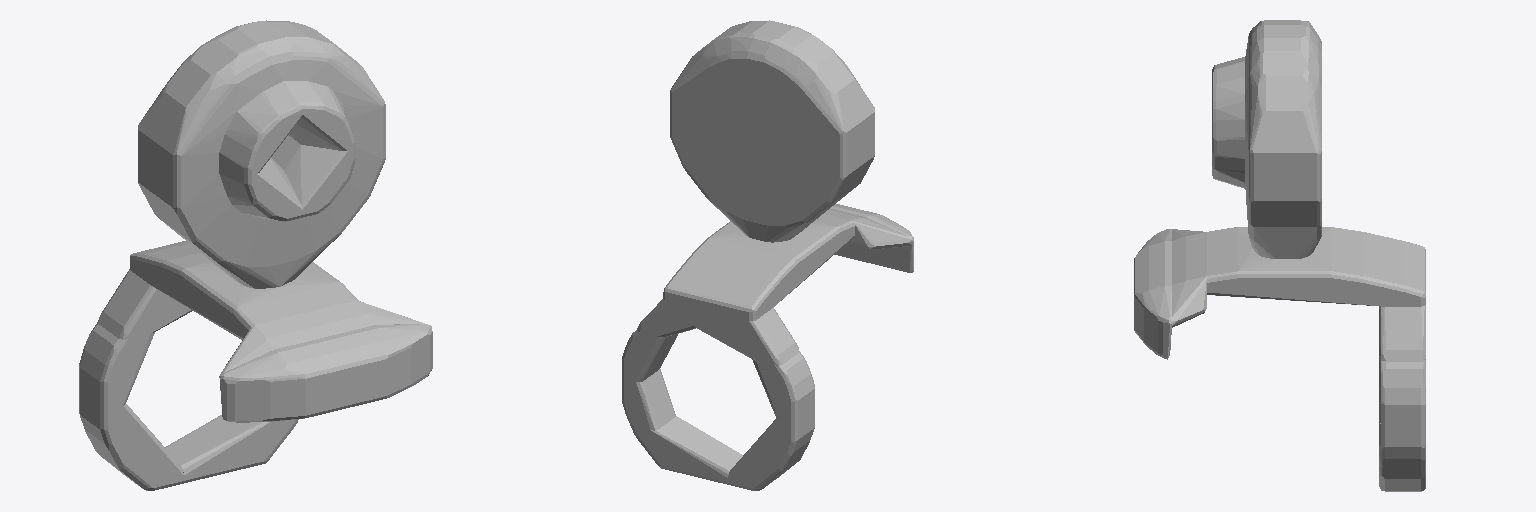
URDF robot description (root):
<robot name="root">
  <link name="link_coacd_convex_piece_0">
    <inertial>
      <origin xyz="0 0 0" rpy="0 0 0"/>
      <inertia ixx="2.40E-04" ixy="2.89E-07" ixz="6.59E-08" iyy="-5.00E-04" iyz="3.68E-04" izz="1.24E-03"/>
    </inertial>
    <visual>
      <origin xyz="0 0 0" rpy="0 0 0"/>
      <geometry>
        <mesh filename="coacd_convex_piece_0.obj" scale="1.0000E+00 1.0000E+00 1.0000E+00"/>
      </geometry>
      <material name="">
        <color rgba="7.50E-01 7.50E-01 7.50E-01 1"/>
      </material>
    </visual>
    <collision>
      <origin xyz="0 0 0" rpy="0 0 0"/>
      <geometry>
        <mesh filename="coacd_convex_piece_0.obj" scale="1.0000E+00 1.0000E+00 1.0000E+00"/>
      </geometry>
    </collision>
  </link>
  <link name="link_coacd_convex_piece_1">
    <inertial>
      <origin xyz="0 0 0" rpy="0 0 0"/>
      <inertia ixx="7.27E-04" ixy="-3.79E-05" ixz="1.27E-04" iyy="6.96E-04" iyz="2.40E-04" izz="9.04E-05"/>
    </inertial>
    <visual>
      <origin xyz="0 0 0" rpy="0 0 0"/>
      <geometry>
        <mesh filename="coacd_convex_piece_1.obj" scale="1.0000E+00 1.0000E+00 1.0000E+00"/>
      </geometry>
      <material name="">
        <color rgba="7.50E-01 7.50E-01 7.50E-01 1"/>
      </material>
    </visual>
    <collision>
      <origin xyz="0 0 0" rpy="0 0 0"/>
      <geometry>
        <mesh filename="coacd_convex_piece_1.obj" scale="1.0000E+00 1.0000E+00 1.0000E+00"/>
      </geometry>
    </collision>
  </link>
  <joint name="link_coacd_convex_piece_1_joint" type="fixed">
    <origin xyz="0 0 0" rpy="0 0 0"/>
    <parent link="link_coacd_convex_piece_0"/>
    <child link="link_coacd_convex_piece_1"/>
  </joint>
  <link name="link_coacd_convex_piece_2">
    <inertial>
      <origin xyz="0 0 0" rpy="0 0 0"/>
      <inertia ixx="5.28E-04" ixy="-2.10E-04" ixz="1.05E-04" iyy="9.46E-05" iyz="2.82E-04" izz="6.24E-04"/>
    </inertial>
    <visual>
      <origin xyz="0 0 0" rpy="0 0 0"/>
      <geometry>
        <mesh filename="coacd_convex_piece_2.obj" scale="1.0000E+00 1.0000E+00 1.0000E+00"/>
      </geometry>
      <material name="">
        <color rgba="7.50E-01 7.50E-01 7.50E-01 1"/>
      </material>
    </visual>
    <collision>
      <origin xyz="0 0 0" rpy="0 0 0"/>
      <geometry>
        <mesh filename="coacd_convex_piece_2.obj" scale="1.0000E+00 1.0000E+00 1.0000E+00"/>
      </geometry>
    </collision>
  </link>
  <joint name="link_coacd_convex_piece_2_joint" type="fixed">
    <origin xyz="0 0 0" rpy="0 0 0"/>
    <parent link="link_coacd_convex_piece_1"/>
    <child link="link_coacd_convex_piece_2"/>
  </joint>
  <link name="link_coacd_convex_piece_3">
    <inertial>
      <origin xyz="0 0 0" rpy="0 0 0"/>
      <inertia ixx="7.75E-04" ixy="2.21E-04" ixz="-1.11E-04" iyy="8.91E-05" iyz="4.10E-04" izz="8.83E-04"/>
    </inertial>
    <visual>
      <origin xyz="0 0 0" rpy="0 0 0"/>
      <geometry>
        <mesh filename="coacd_convex_piece_3.obj" scale="1.0000E+00 1.0000E+00 1.0000E+00"/>
      </geometry>
      <material name="">
        <color rgba="7.50E-01 7.50E-01 7.50E-01 1"/>
      </material>
    </visual>
    <collision>
      <origin xyz="0 0 0" rpy="0 0 0"/>
      <geometry>
        <mesh filename="coacd_convex_piece_3.obj" scale="1.0000E+00 1.0000E+00 1.0000E+00"/>
      </geometry>
    </collision>
  </link>
  <joint name="link_coacd_convex_piece_3_joint" type="fixed">
    <origin xyz="0 0 0" rpy="0 0 0"/>
    <parent link="link_coacd_convex_piece_2"/>
    <child link="link_coacd_convex_piece_3"/>
  </joint>
  <link name="link_coacd_convex_piece_4">
    <inertial>
      <origin xyz="0 0 0" rpy="0 0 0"/>
      <inertia ixx="3.29E-03" ixy="-2.49E-04" ixz="4.36E-04" iyy="2.59E-03" iyz="1.53E-03" izz="9.54E-04"/>
    </inertial>
    <visual>
      <origin xyz="0 0 0" rpy="0 0 0"/>
      <geometry>
        <mesh filename="coacd_convex_piece_4.obj" scale="1.0000E+00 1.0000E+00 1.0000E+00"/>
      </geometry>
      <material name="">
        <color rgba="7.50E-01 7.50E-01 7.50E-01 1"/>
      </material>
    </visual>
    <collision>
      <origin xyz="0 0 0" rpy="0 0 0"/>
      <geometry>
        <mesh filename="coacd_convex_piece_4.obj" scale="1.0000E+00 1.0000E+00 1.0000E+00"/>
      </geometry>
    </collision>
  </link>
  <joint name="link_coacd_convex_piece_4_joint" type="fixed">
    <origin xyz="0 0 0" rpy="0 0 0"/>
    <parent link="link_coacd_convex_piece_3"/>
    <child link="link_coacd_convex_piece_4"/>
  </joint>
  <link name="link_coacd_convex_piece_5">
    <inertial>
      <origin xyz="0 0 0" rpy="0 0 0"/>
      <inertia ixx="8.56E-04" ixy="3.73E-04" ixz="-3.45E-04" iyy="5.93E-04" iyz="5.13E-04" izz="7.99E-04"/>
    </inertial>
    <visual>
      <origin xyz="0 0 0" rpy="0 0 0"/>
      <geometry>
        <mesh filename="coacd_convex_piece_5.obj" scale="1.0000E+00 1.0000E+00 1.0000E+00"/>
      </geometry>
      <material name="">
        <color rgba="7.50E-01 7.50E-01 7.50E-01 1"/>
      </material>
    </visual>
    <collision>
      <origin xyz="0 0 0" rpy="0 0 0"/>
      <geometry>
        <mesh filename="coacd_convex_piece_5.obj" scale="1.0000E+00 1.0000E+00 1.0000E+00"/>
      </geometry>
    </collision>
  </link>
  <joint name="link_coacd_convex_piece_5_joint" type="fixed">
    <origin xyz="0 0 0" rpy="0 0 0"/>
    <parent link="link_coacd_convex_piece_4"/>
    <child link="link_coacd_convex_piece_5"/>
  </joint>
  <link name="link_coacd_convex_piece_6">
    <inertial>
      <origin xyz="0 0 0" rpy="0 0 0"/>
      <inertia ixx="3.25E-03" ixy="5.59E-04" ixz="-8.66E-04" iyy="2.62E-03" iyz="1.60E-03" izz="1.32E-03"/>
    </inertial>
    <visual>
      <origin xyz="0 0 0" rpy="0 0 0"/>
      <geometry>
        <mesh filename="coacd_convex_piece_6.obj" scale="1.0000E+00 1.0000E+00 1.0000E+00"/>
      </geometry>
      <material name="">
        <color rgba="7.50E-01 7.50E-01 7.50E-01 1"/>
      </material>
    </visual>
    <collision>
      <origin xyz="0 0 0" rpy="0 0 0"/>
      <geometry>
        <mesh filename="coacd_convex_piece_6.obj" scale="1.0000E+00 1.0000E+00 1.0000E+00"/>
      </geometry>
    </collision>
  </link>
  <joint name="link_coacd_convex_piece_6_joint" type="fixed">
    <origin xyz="0 0 0" rpy="0 0 0"/>
    <parent link="link_coacd_convex_piece_5"/>
    <child link="link_coacd_convex_piece_6"/>
  </joint>
  <link name="link_coacd_convex_piece_7">
    <inertial>
      <origin xyz="0 0 0" rpy="0 0 0"/>
      <inertia ixx="1.47E-02" ixy="-4.88E-08" ixz="1.15E-06" iyy="1.72E-02" iyz="2.77E-04" izz="3.07E-03"/>
    </inertial>
    <visual>
      <origin xyz="0 0 0" rpy="0 0 0"/>
      <geometry>
        <mesh filename="coacd_convex_piece_7.obj" scale="1.0000E+00 1.0000E+00 1.0000E+00"/>
      </geometry>
      <material name="">
        <color rgba="7.50E-01 7.50E-01 7.50E-01 1"/>
      </material>
    </visual>
    <collision>
      <origin xyz="0 0 0" rpy="0 0 0"/>
      <geometry>
        <mesh filename="coacd_convex_piece_7.obj" scale="1.0000E+00 1.0000E+00 1.0000E+00"/>
      </geometry>
    </collision>
  </link>
  <joint name="link_coacd_convex_piece_7_joint" type="fixed">
    <origin xyz="0 0 0" rpy="0 0 0"/>
    <parent link="link_coacd_convex_piece_6"/>
    <child link="link_coacd_convex_piece_7"/>
  </joint>
  <link name="link_coacd_convex_piece_8">
    <inertial>
      <origin xyz="0 0 0" rpy="0 0 0"/>
      <inertia ixx="2.60E-04" ixy="3.45E-09" ixz="3.99E-08" iyy="-2.83E-05" iyz="-7.26E-05" izz="5.33E-04"/>
    </inertial>
    <visual>
      <origin xyz="0 0 0" rpy="0 0 0"/>
      <geometry>
        <mesh filename="coacd_convex_piece_8.obj" scale="1.0000E+00 1.0000E+00 1.0000E+00"/>
      </geometry>
      <material name="">
        <color rgba="7.50E-01 7.50E-01 7.50E-01 1"/>
      </material>
    </visual>
    <collision>
      <origin xyz="0 0 0" rpy="0 0 0"/>
      <geometry>
        <mesh filename="coacd_convex_piece_8.obj" scale="1.0000E+00 1.0000E+00 1.0000E+00"/>
      </geometry>
    </collision>
  </link>
  <joint name="link_coacd_convex_piece_8_joint" type="fixed">
    <origin xyz="0 0 0" rpy="0 0 0"/>
    <parent link="link_coacd_convex_piece_7"/>
    <child link="link_coacd_convex_piece_8"/>
  </joint>
  <link name="link_coacd_convex_piece_9">
    <inertial>
      <origin xyz="0 0 0" rpy="0 0 0"/>
      <inertia ixx="1.51E-03" ixy="3.29E-07" ixz="3.39E-07" iyy="1.56E-04" iyz="-5.35E-04" izz="1.94E-03"/>
    </inertial>
    <visual>
      <origin xyz="0 0 0" rpy="0 0 0"/>
      <geometry>
        <mesh filename="coacd_convex_piece_9.obj" scale="1.0000E+00 1.0000E+00 1.0000E+00"/>
      </geometry>
      <material name="">
        <color rgba="7.50E-01 7.50E-01 7.50E-01 1"/>
      </material>
    </visual>
    <collision>
      <origin xyz="0 0 0" rpy="0 0 0"/>
      <geometry>
        <mesh filename="coacd_convex_piece_9.obj" scale="1.0000E+00 1.0000E+00 1.0000E+00"/>
      </geometry>
    </collision>
  </link>
  <joint name="link_coacd_convex_piece_9_joint" type="fixed">
    <origin xyz="0 0 0" rpy="0 0 0"/>
    <parent link="link_coacd_convex_piece_8"/>
    <child link="link_coacd_convex_piece_9"/>
  </joint>
  <link name="link_coacd_convex_piece_10">
    <inertial>
      <origin xyz="0 0 0" rpy="0 0 0"/>
      <inertia ixx="7.83E-04" ixy="-3.46E-04" ixz="3.15E-04" iyy="5.37E-04" iyz="4.70E-04" izz="7.42E-04"/>
    </inertial>
    <visual>
      <origin xyz="0 0 0" rpy="0 0 0"/>
      <geometry>
        <mesh filename="coacd_convex_piece_10.obj" scale="1.0000E+00 1.0000E+00 1.0000E+00"/>
      </geometry>
      <material name="">
        <color rgba="7.50E-01 7.50E-01 7.50E-01 1"/>
      </material>
    </visual>
    <collision>
      <origin xyz="0 0 0" rpy="0 0 0"/>
      <geometry>
        <mesh filename="coacd_convex_piece_10.obj" scale="1.0000E+00 1.0000E+00 1.0000E+00"/>
      </geometry>
    </collision>
  </link>
  <joint name="link_coacd_convex_piece_10_joint" type="fixed">
    <origin xyz="0 0 0" rpy="0 0 0"/>
    <parent link="link_coacd_convex_piece_9"/>
    <child link="link_coacd_convex_piece_10"/>
  </joint>
  <link name="link_coacd_convex_piece_11">
    <inertial>
      <origin xyz="0 0 0" rpy="0 0 0"/>
      <inertia ixx="1.06E-03" ixy="-2.88E-04" ixz="3.98E-04" iyy="8.77E-04" iyz="5.64E-04" izz="6.08E-04"/>
    </inertial>
    <visual>
      <origin xyz="0 0 0" rpy="0 0 0"/>
      <geometry>
        <mesh filename="coacd_convex_piece_11.obj" scale="1.0000E+00 1.0000E+00 1.0000E+00"/>
      </geometry>
      <material name="">
        <color rgba="7.50E-01 7.50E-01 7.50E-01 1"/>
      </material>
    </visual>
    <collision>
      <origin xyz="0 0 0" rpy="0 0 0"/>
      <geometry>
        <mesh filename="coacd_convex_piece_11.obj" scale="1.0000E+00 1.0000E+00 1.0000E+00"/>
      </geometry>
    </collision>
  </link>
  <joint name="link_coacd_convex_piece_11_joint" type="fixed">
    <origin xyz="0 0 0" rpy="0 0 0"/>
    <parent link="link_coacd_convex_piece_10"/>
    <child link="link_coacd_convex_piece_11"/>
  </joint>
  <link name="link_coacd_convex_piece_12">
    <inertial>
      <origin xyz="0 0 0" rpy="0 0 0"/>
      <inertia ixx="3.05E-04" ixy="3.92E-05" ixz="-9.26E-05" iyy="2.73E-04" iyz="1.69E-04" izz="9.30E-05"/>
    </inertial>
    <visual>
      <origin xyz="0 0 0" rpy="0 0 0"/>
      <geometry>
        <mesh filename="coacd_convex_piece_12.obj" scale="1.0000E+00 1.0000E+00 1.0000E+00"/>
      </geometry>
      <material name="">
        <color rgba="7.50E-01 7.50E-01 7.50E-01 1"/>
      </material>
    </visual>
    <collision>
      <origin xyz="0 0 0" rpy="0 0 0"/>
      <geometry>
        <mesh filename="coacd_convex_piece_12.obj" scale="1.0000E+00 1.0000E+00 1.0000E+00"/>
      </geometry>
    </collision>
  </link>
  <joint name="link_coacd_convex_piece_12_joint" type="fixed">
    <origin xyz="0 0 0" rpy="0 0 0"/>
    <parent link="link_coacd_convex_piece_11"/>
    <child link="link_coacd_convex_piece_12"/>
  </joint>
  <link name="link_coacd_convex_piece_13">
    <inertial>
      <origin xyz="0 0 0" rpy="0 0 0"/>
      <inertia ixx="2.99E-04" ixy="-3.84E-05" ixz="9.06E-05" iyy="2.67E-04" iyz="1.66E-04" izz="9.16E-05"/>
    </inertial>
    <visual>
      <origin xyz="0 0 0" rpy="0 0 0"/>
      <geometry>
        <mesh filename="coacd_convex_piece_13.obj" scale="1.0000E+00 1.0000E+00 1.0000E+00"/>
      </geometry>
      <material name="">
        <color rgba="7.50E-01 7.50E-01 7.50E-01 1"/>
      </material>
    </visual>
    <collision>
      <origin xyz="0 0 0" rpy="0 0 0"/>
      <geometry>
        <mesh filename="coacd_convex_piece_13.obj" scale="1.0000E+00 1.0000E+00 1.0000E+00"/>
      </geometry>
    </collision>
  </link>
  <joint name="link_coacd_convex_piece_13_joint" type="fixed">
    <origin xyz="0 0 0" rpy="0 0 0"/>
    <parent link="link_coacd_convex_piece_12"/>
    <child link="link_coacd_convex_piece_13"/>
  </joint>
  <link name="link_coacd_convex_piece_14">
    <inertial>
      <origin xyz="0 0 0" rpy="0 0 0"/>
      <inertia ixx="7.22E-04" ixy="3.74E-05" ixz="-1.26E-04" iyy="6.91E-04" iyz="2.37E-04" izz="8.91E-05"/>
    </inertial>
    <visual>
      <origin xyz="0 0 0" rpy="0 0 0"/>
      <geometry>
        <mesh filename="coacd_convex_piece_14.obj" scale="1.0000E+00 1.0000E+00 1.0000E+00"/>
      </geometry>
      <material name="">
        <color rgba="7.50E-01 7.50E-01 7.50E-01 1"/>
      </material>
    </visual>
    <collision>
      <origin xyz="0 0 0" rpy="0 0 0"/>
      <geometry>
        <mesh filename="coacd_convex_piece_14.obj" scale="1.0000E+00 1.0000E+00 1.0000E+00"/>
      </geometry>
    </collision>
  </link>
  <joint name="link_coacd_convex_piece_14_joint" type="fixed">
    <origin xyz="0 0 0" rpy="0 0 0"/>
    <parent link="link_coacd_convex_piece_13"/>
    <child link="link_coacd_convex_piece_14"/>
  </joint>
</robot>

--- What the picture shows (computed from the rendered views, not written in the file) ---
Views: 3 orthographic renders of the robot side by side, from view 1: azimuth 30°, elevation 25°; view 2: azimuth 150°, elevation 25°; view 3: azimuth 270°, elevation 25°.
Model root with 15 links and 14 joints (14 fixed), rooted at link_coacd_convex_piece_0, posed every joint at zero.
Links seen in each view (by area): view 1: link_coacd_convex_piece_7, link_coacd_convex_piece_9, link_coacd_convex_piece_0, link_coacd_convex_piece_6, link_coacd_convex_piece_4, link_coacd_convex_piece_1, link_coacd_convex_piece_8, link_coacd_convex_piece_5, link_coacd_convex_piece_3, link_coacd_convex_piece_12, link_coacd_convex_piece_13, link_coacd_convex_piece_14; view 2: link_coacd_convex_piece_7, link_coacd_convex_piece_0, link_coacd_convex_piece_4, link_coacd_convex_piece_6, link_coacd_convex_piece_3, link_coacd_convex_piece_5, link_coacd_convex_piece_11, link_coacd_convex_piece_9, link_coacd_convex_piece_10, link_coacd_convex_piece_2, link_coacd_convex_piece_8; view 3: link_coacd_convex_piece_7, link_coacd_convex_piece_0, link_coacd_convex_piece_9, link_coacd_convex_piece_8, link_coacd_convex_piece_10, link_coacd_convex_piece_14, link_coacd_convex_piece_2, link_coacd_convex_piece_11, link_coacd_convex_piece_12, link_coacd_convex_piece_4.
Boxes of the visible links, left/top/right/bottom form: link_coacd_convex_piece_7: left=138, top=20, right=385, bottom=288; link_coacd_convex_piece_9: left=220, top=324, right=432, bottom=422; link_coacd_convex_piece_0: left=130, top=241, right=358, bottom=339; link_coacd_convex_piece_6: left=79, top=393, right=183, bottom=490; link_coacd_convex_piece_4: left=165, top=415, right=298, bottom=483; link_coacd_convex_piece_1: left=219, top=81, right=302, bottom=175; link_coacd_convex_piece_8: left=219, top=300, right=424, bottom=377; link_coacd_convex_piece_5: left=79, top=322, right=154, bottom=409; link_coacd_convex_piece_3: left=98, top=269, right=192, bottom=339; link_coacd_convex_piece_12: left=284, top=145, right=355, bottom=217; link_coacd_convex_piece_13: left=219, top=158, right=302, bottom=221; link_coacd_convex_piece_14: left=284, top=81, right=355, bottom=150; link_coacd_convex_piece_7: left=670, top=20, right=874, bottom=242; link_coacd_convex_piece_0: left=663, top=214, right=854, bottom=320; link_coacd_convex_piece_4: left=630, top=416, right=742, bottom=484; link_coacd_convex_piece_6: left=728, top=411, right=814, bottom=490; link_coacd_convex_piece_3: left=695, top=307, right=798, bottom=365; link_coacd_convex_piece_5: left=752, top=351, right=814, bottom=423; link_coacd_convex_piece_11: left=622, top=369, right=675, bottom=430; link_coacd_convex_piece_9: left=830, top=204, right=913, bottom=272; link_coacd_convex_piece_10: left=622, top=330, right=677, bottom=381; link_coacd_convex_piece_2: left=637, top=299, right=695, bottom=336; link_coacd_convex_piece_8: left=824, top=209, right=911, bottom=248; link_coacd_convex_piece_7: left=1245, top=20, right=1321, bottom=258; link_coacd_convex_piece_0: left=1207, top=227, right=1425, bottom=306; link_coacd_convex_piece_9: left=1134, top=229, right=1171, bottom=359; link_coacd_convex_piece_8: left=1172, top=229, right=1206, bottom=327; link_coacd_convex_piece_10: left=1379, top=359, right=1425, bottom=424; link_coacd_convex_piece_14: left=1212, top=61, right=1244, bottom=148; link_coacd_convex_piece_2: left=1379, top=305, right=1425, bottom=361; link_coacd_convex_piece_11: left=1379, top=423, right=1425, bottom=467; link_coacd_convex_piece_12: left=1212, top=144, right=1244, bottom=188; link_coacd_convex_piece_4: left=1379, top=465, right=1425, bottom=491.
Size in the robot's own frame: 0.7494 by 0.9992 by 1.64 metres.
15 mesh visuals loaded from 15 distinct referenced files (15 OBJ).
